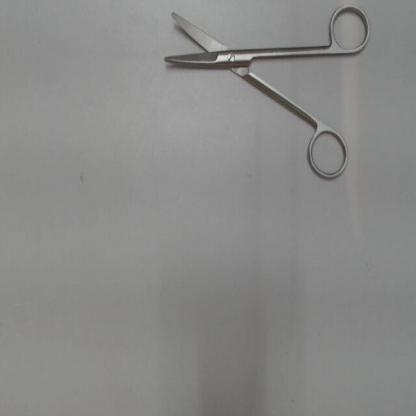Curved Mayo Scissors: (160, 2, 374, 188)
